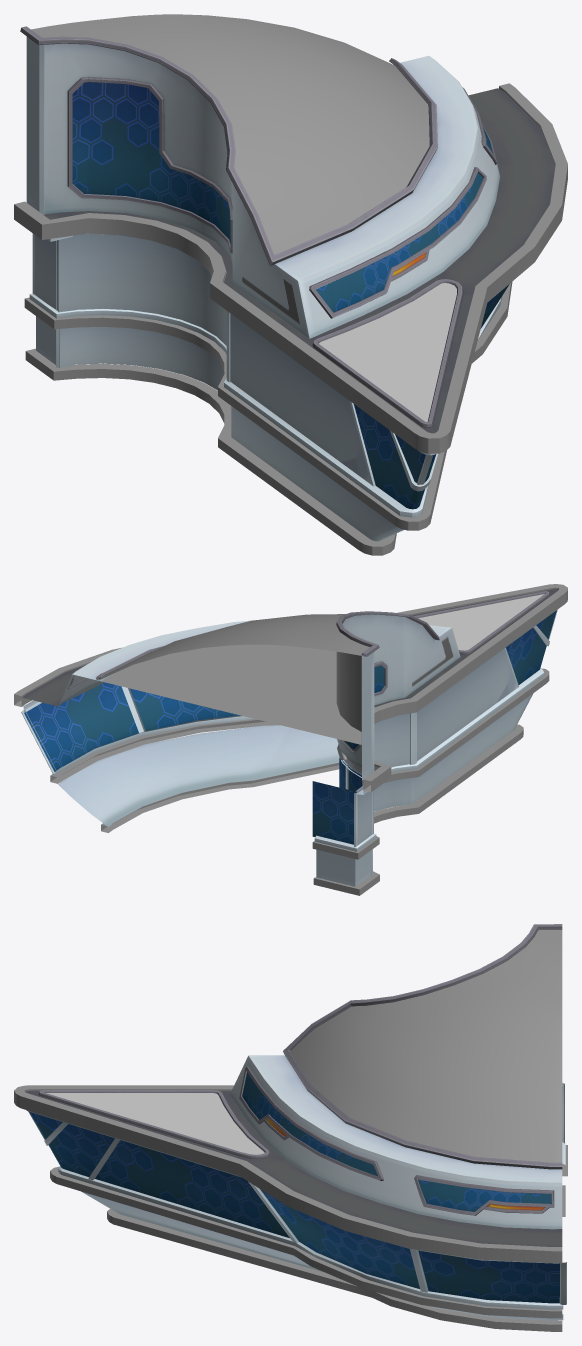
File: mesh_1002_props03_1.FBX
3 views of the same model, one above another, from view 1: azimuth 30°, elevation 25°; view 2: azimuth 150°, elevation 25°; view 3: azimuth 270°, elevation 25° (orthographic). The views are drawn at different scales.
Visible parts, largest first — view 1: mesh_1002_props03a, mesh_1002_props3d, mesh_1002_props03c, mesh_1002_props03b, mesh_1002_props03g, mesh_1002_props03e; view 2: mesh_1002_props03a, mesh_1002_props03f, mesh_1002_props03c, mesh_1002_props03b, mesh_1002_props03g, mesh_1002_props3d, mesh_1002_props03e; view 3: mesh_1002_props3d, mesh_1002_props03c, mesh_1002_props03a, mesh_1002_props03b, mesh_1002_props03e.
Boxes of the visible parts, box(x1,y1,x2,y2) form: mesh_1002_props03a: box(26, 36, 555, 541); mesh_1002_props3d: box(31, 14, 429, 254); mesh_1002_props03c: box(20, 26, 509, 509); mesh_1002_props03b: box(14, 83, 567, 555); mesh_1002_props03g: box(35, 233, 371, 484); mesh_1002_props03e: box(319, 283, 456, 421); mesh_1002_props03a: box(21, 589, 558, 886); mesh_1002_props03f: box(102, 644, 361, 744); mesh_1002_props03c: box(24, 591, 556, 844); mesh_1002_props03b: box(14, 584, 567, 895); mesh_1002_props03g: box(347, 648, 517, 844); mesh_1002_props3d: box(98, 614, 369, 680); mesh_1002_props03e: box(418, 594, 544, 650); mesh_1002_props3d: box(290, 929, 562, 1162); mesh_1002_props03c: box(30, 924, 562, 1303); mesh_1002_props03a: box(25, 1055, 566, 1320); mesh_1002_props03b: box(14, 1085, 567, 1331); mesh_1002_props03e: box(46, 1093, 264, 1154).
Bounding box in the file's own units: 2520 × 1631 × 3082.
